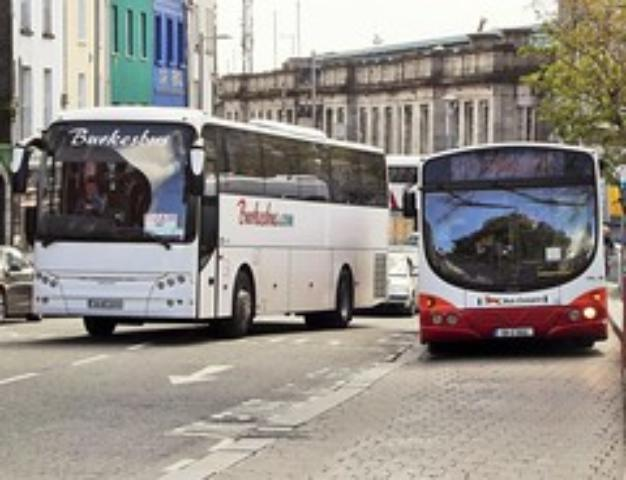bus: (29, 104, 389, 337), (404, 141, 608, 352)
